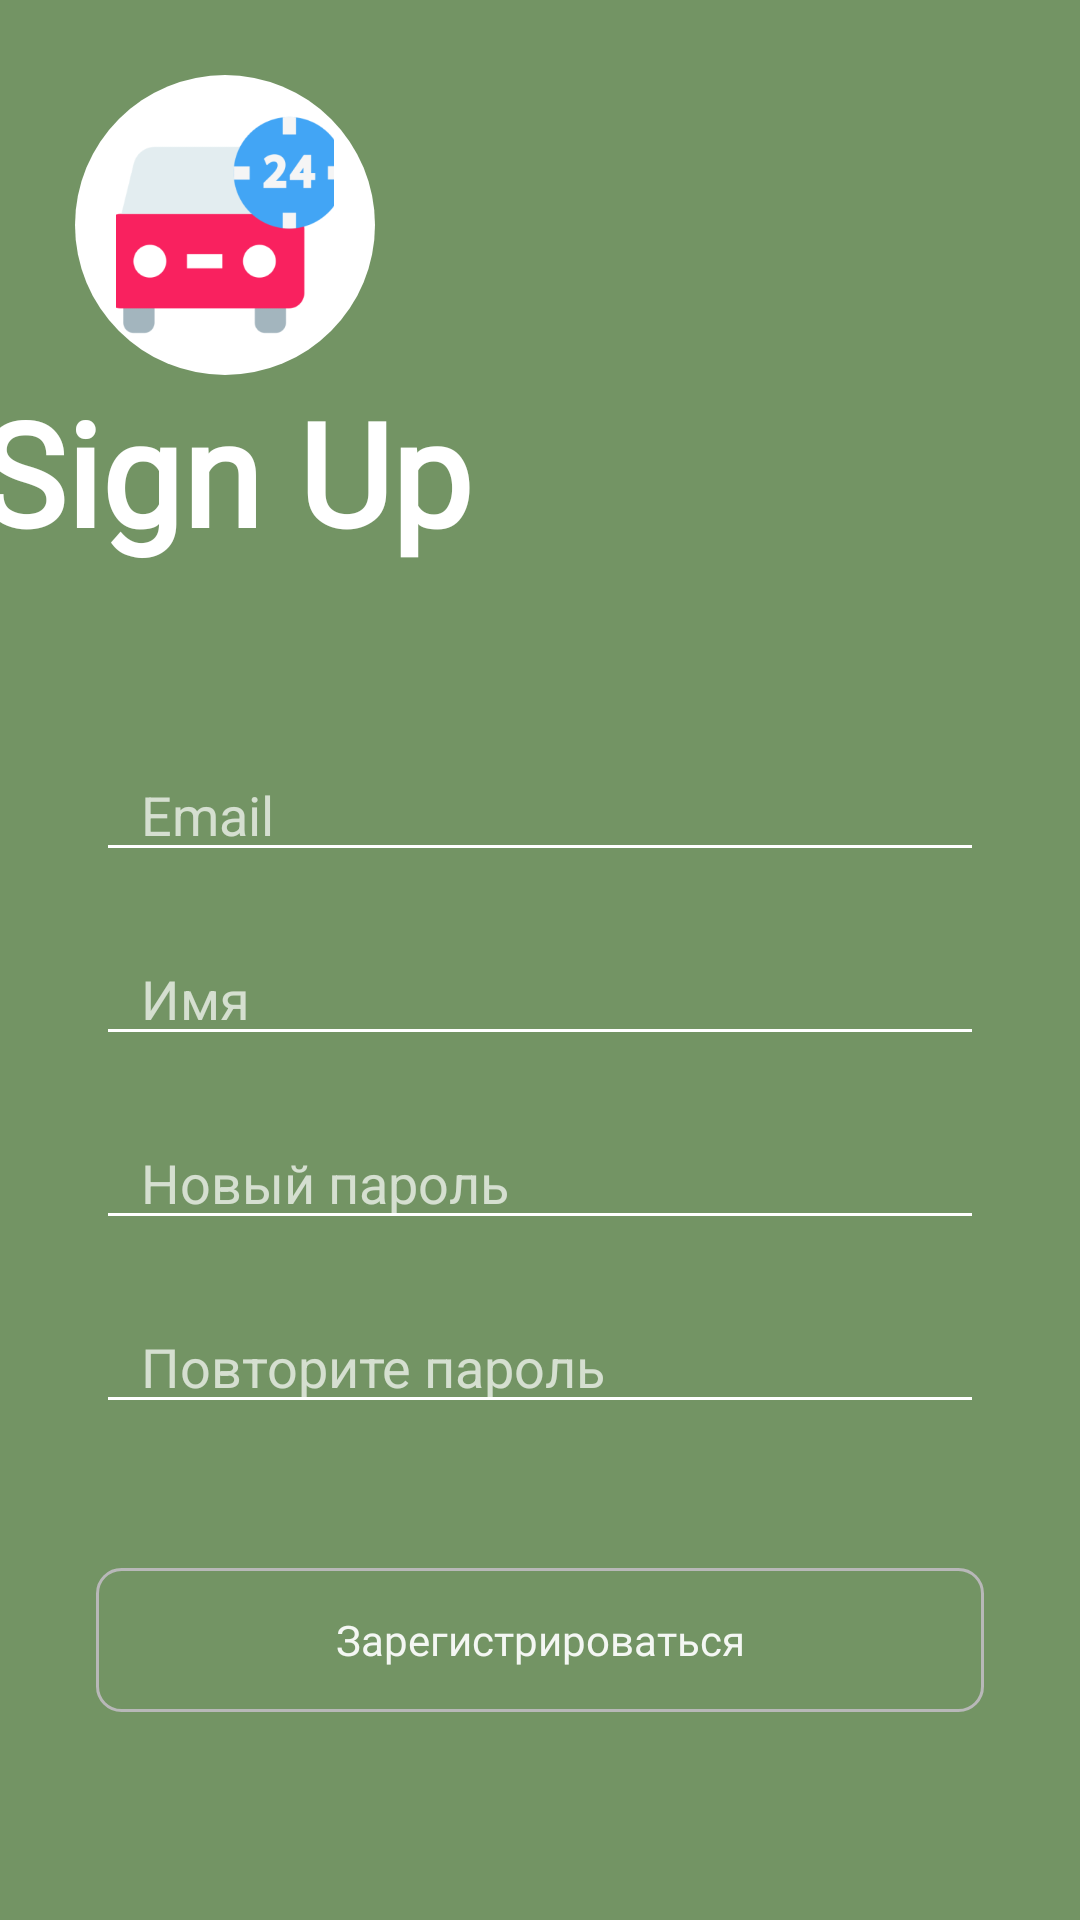

Icons on this 1080px x 1920px Android screen, each with the point to tap as (x,y):
car: (225,225)
